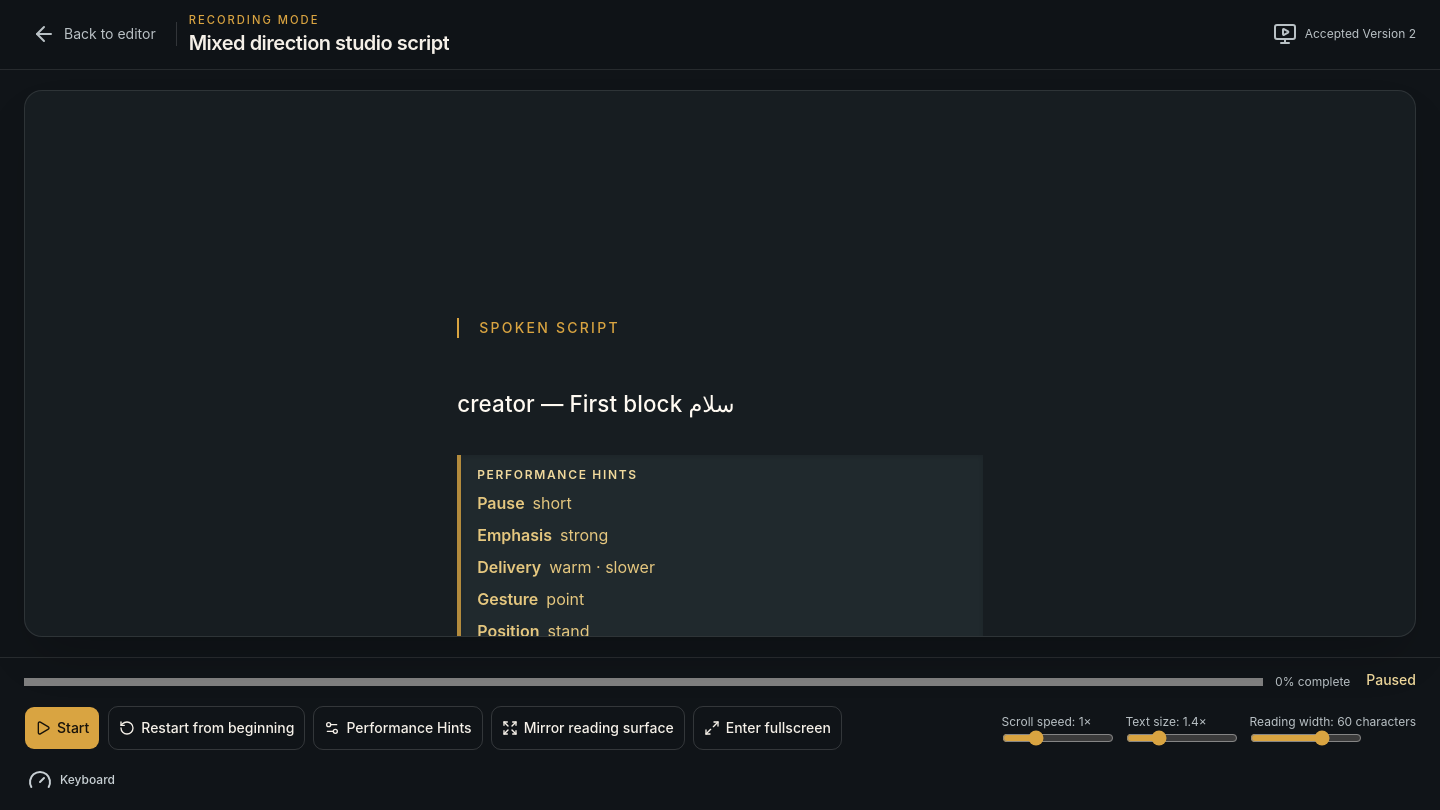
Test case: Teleprompter › synchronizes successful fullscreen entry through fullscreenchange
Click the button "Enter fullscreen" at coordinates (767, 728), box left=693, top=706, right=842, bottom=750
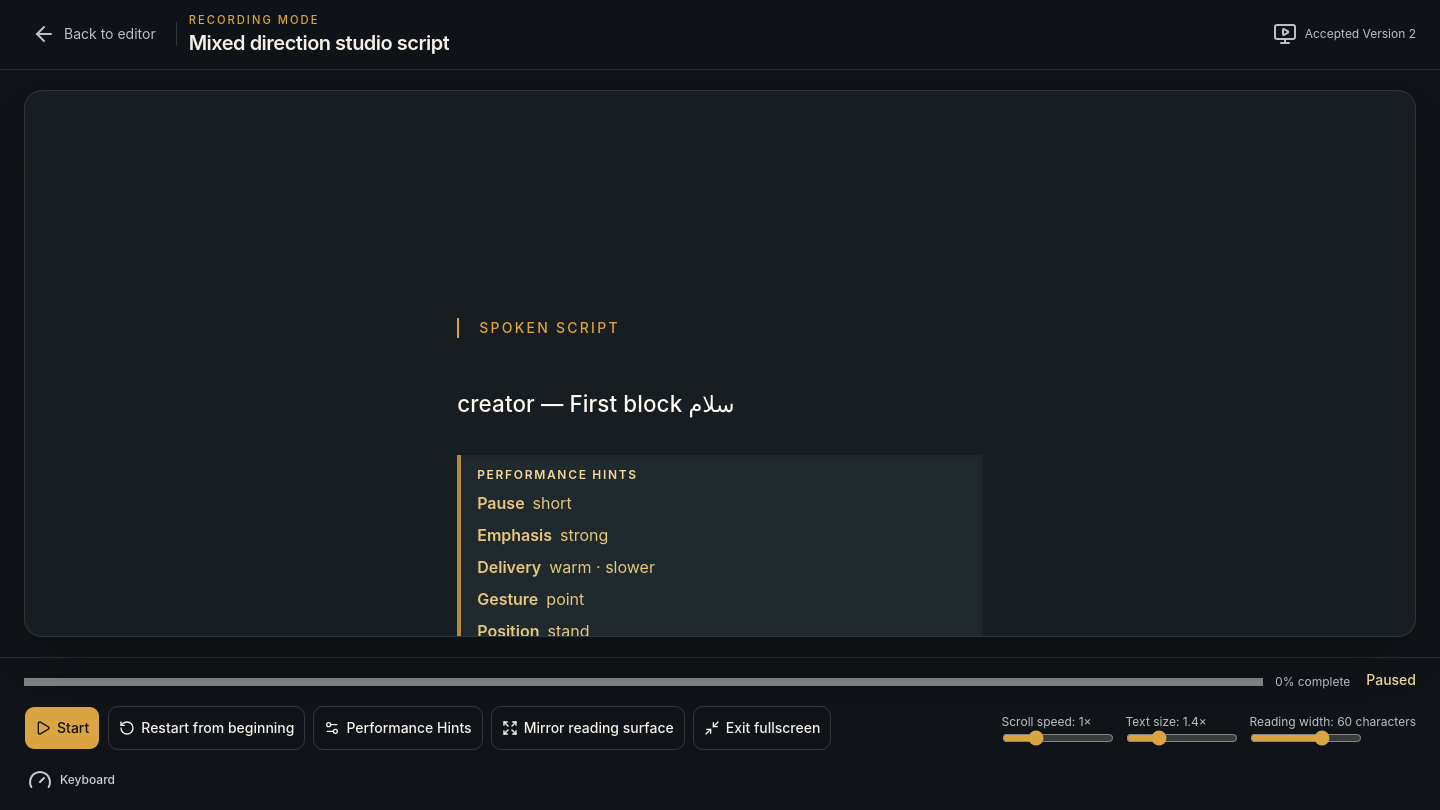
Now the button "Exit fullscreen" is shown, box left=693, top=706, right=831, bottom=750
